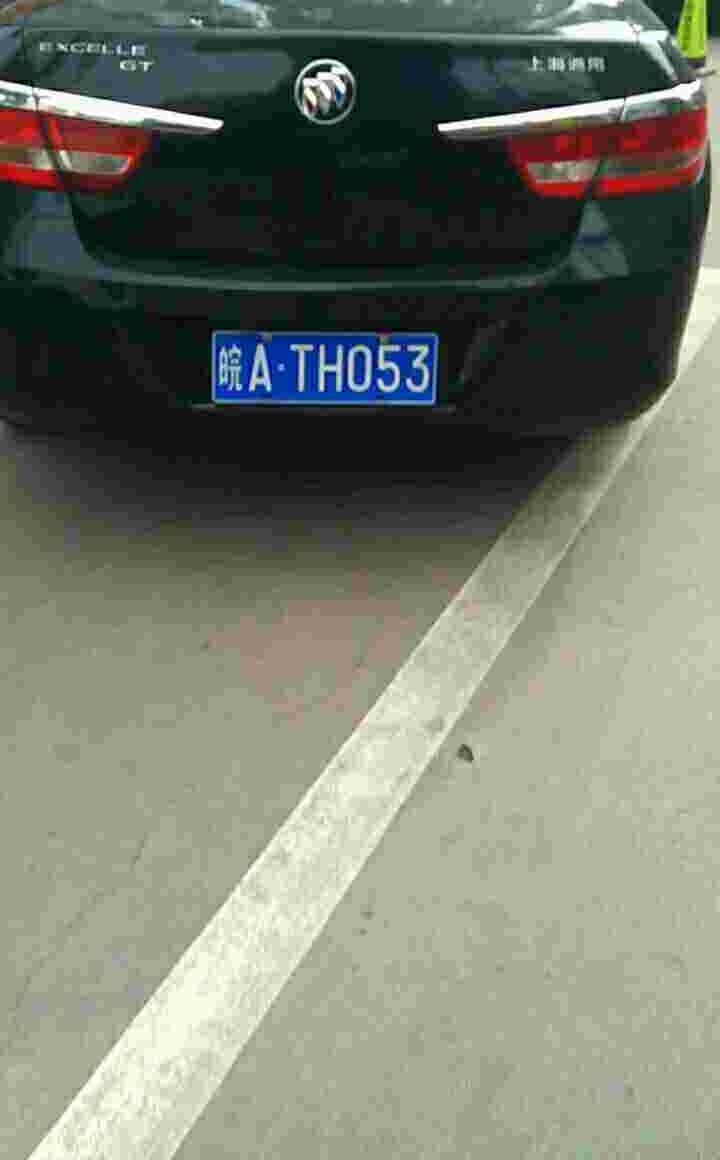license_plate: (195, 323, 442, 409)
